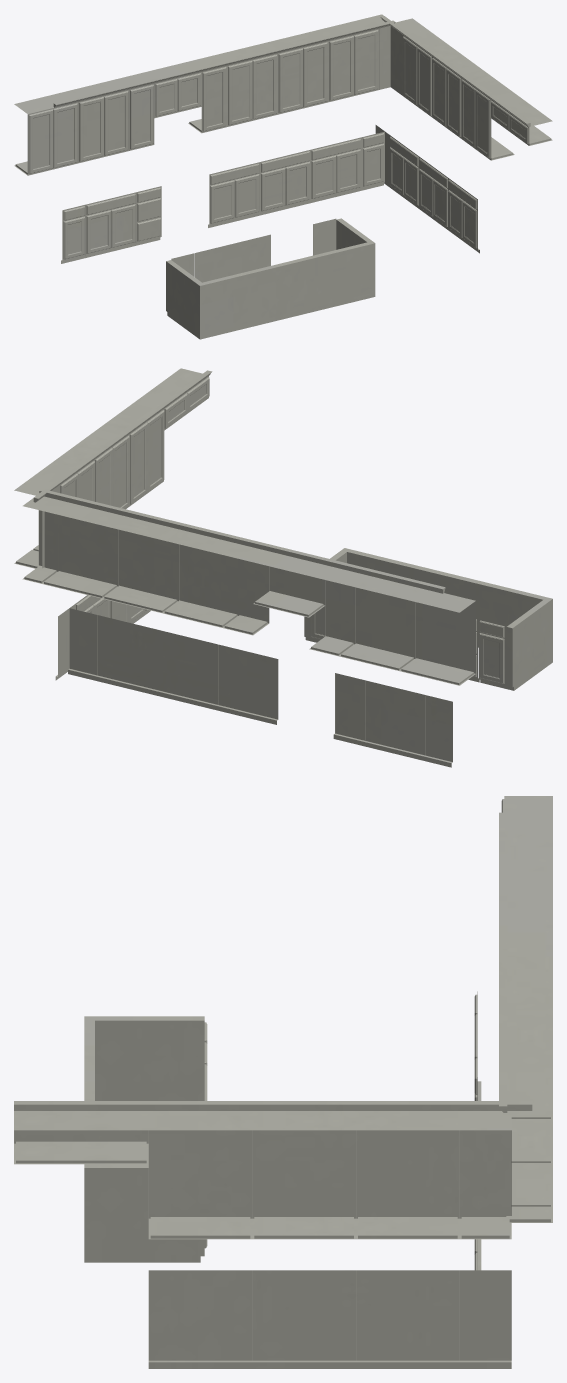
Rendered from 1989_kitchen_cabinets_bolder.gltf.
The picture shows the model from 3 angles, top to bottom: view 1: azimuth 30°, elevation 25°; view 2: azimuth 150°, elevation 25°; view 3: azimuth 270°, elevation 25°; orthographic projection. The views are drawn at different scales.
Parts seen in each view (by area): view 1: Cabinet_bolder.001; view 2: Cabinet_bolder.001; view 3: Cabinet_bolder.001.
Part boxes in pixels (bbox=[...]): Cabinet_bolder.001: bbox=[14, 14, 552, 339]; Cabinet_bolder.001: bbox=[14, 368, 552, 767]; Cabinet_bolder.001: bbox=[14, 796, 552, 1368].
Bounding box in the file's own units: 7.63 × 2.93 × 5.2.
1 material, 1 textured.
